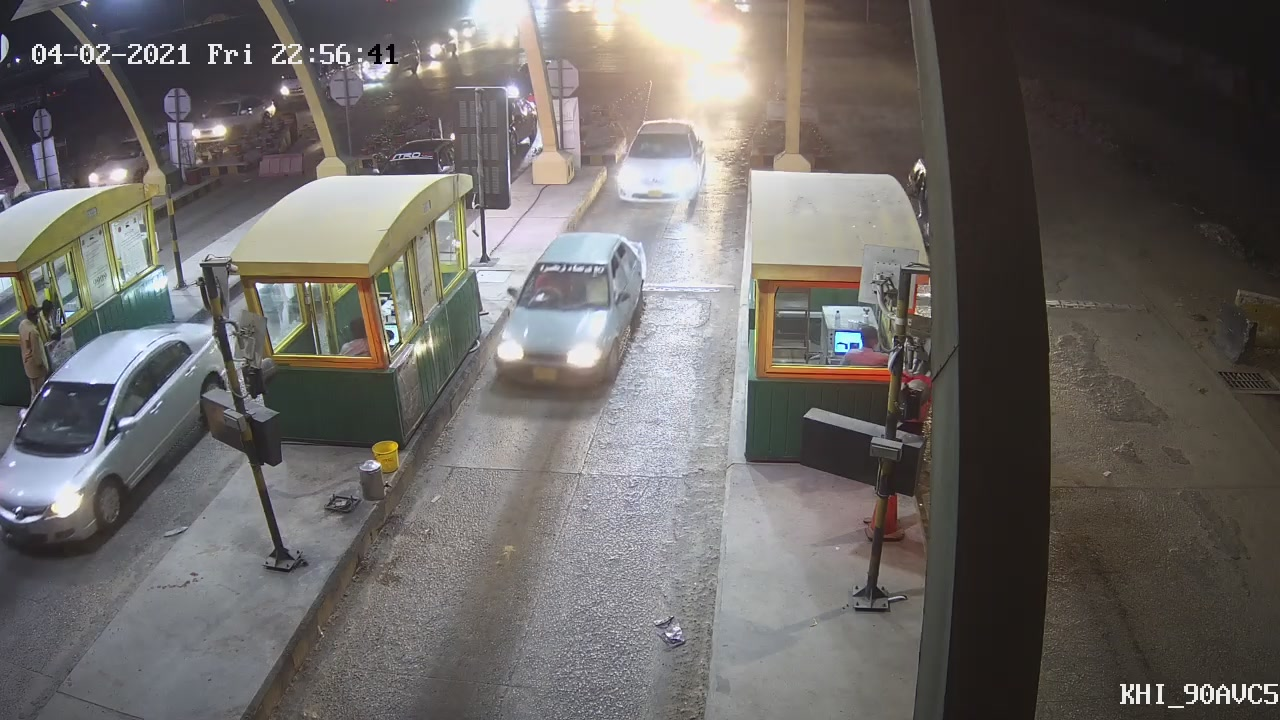F1: (486, 232, 647, 392), (609, 112, 709, 216)
